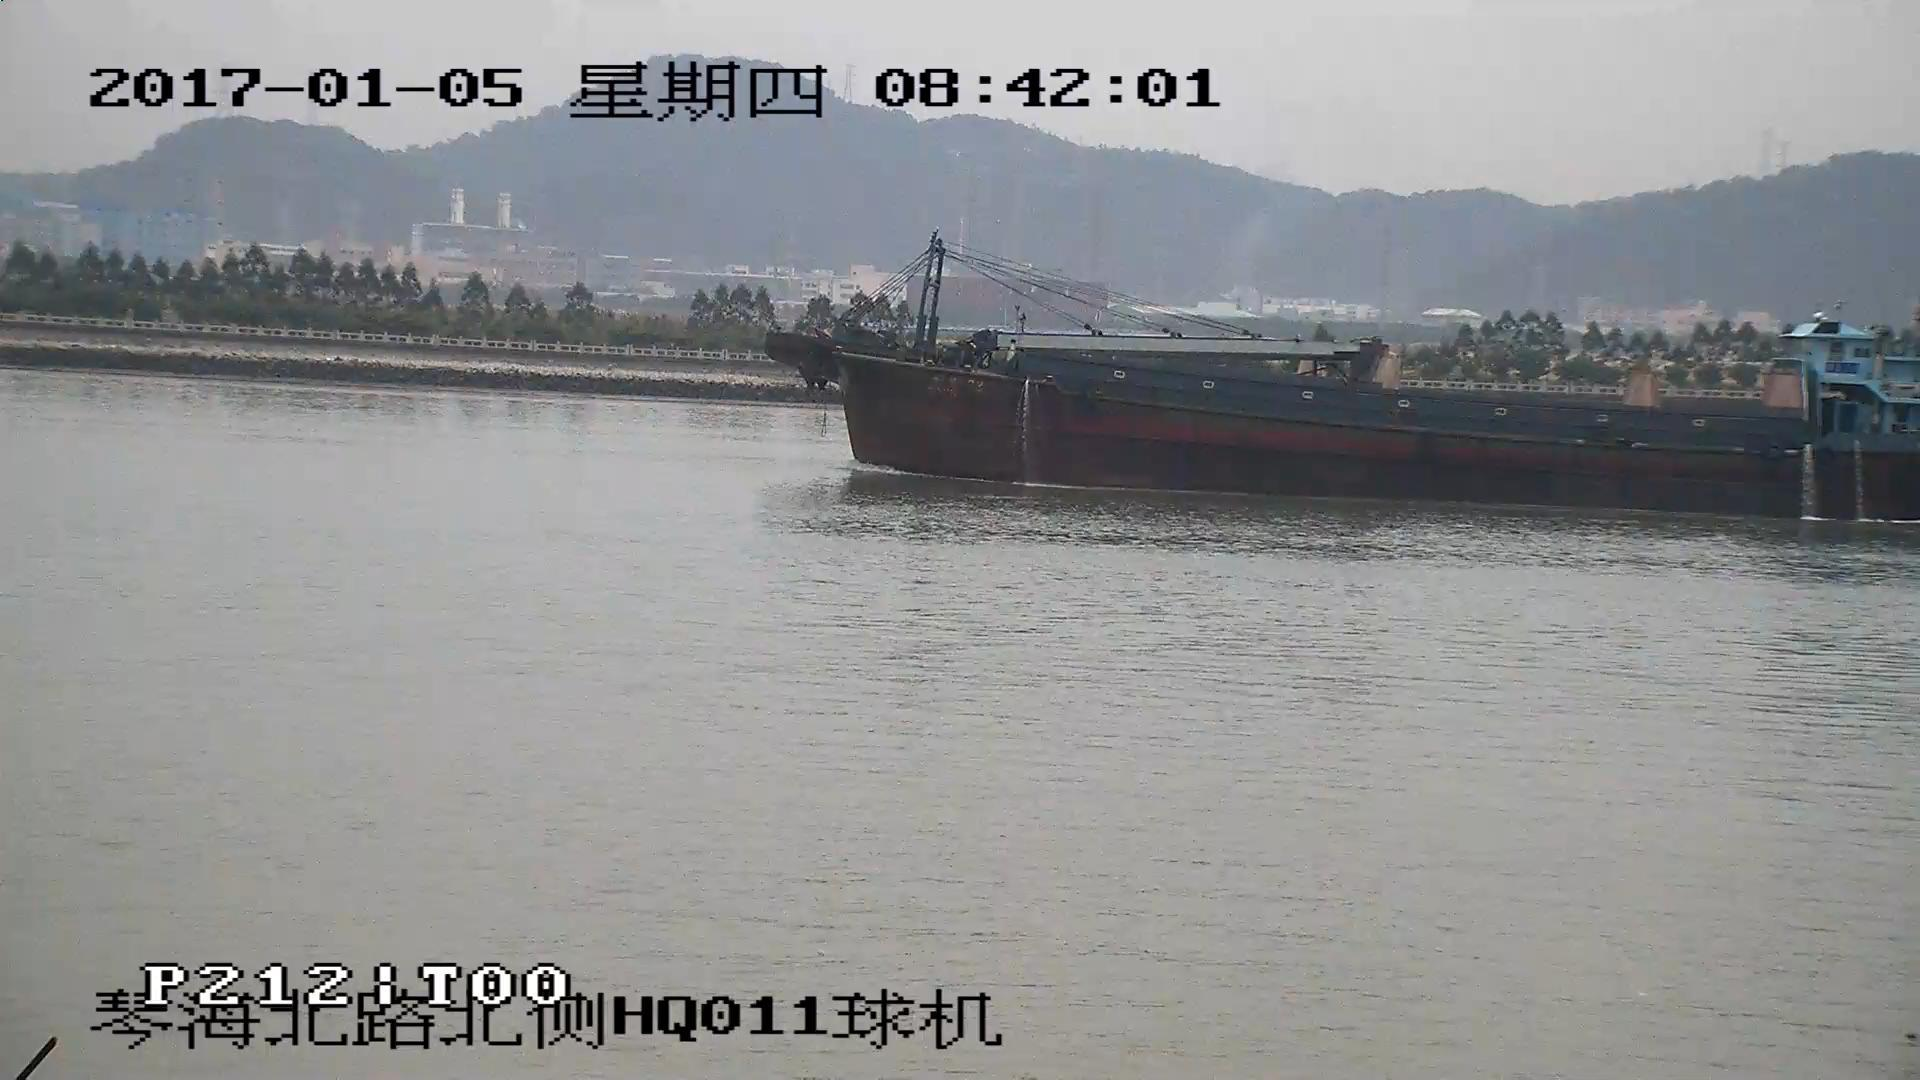Ship: (767, 245, 1920, 524)
